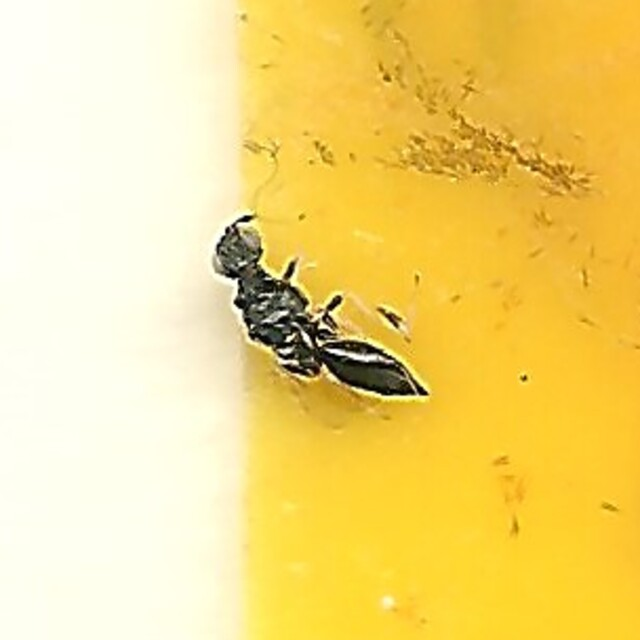Hymenoptera: (211, 222, 429, 418)
